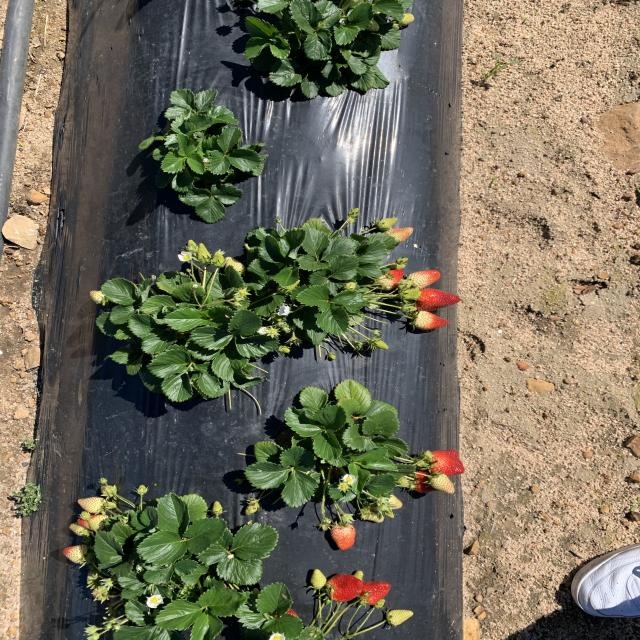unripe: (425, 446, 470, 475), (412, 287, 464, 311), (323, 574, 366, 601), (355, 581, 392, 606), (409, 473, 449, 495), (272, 605, 305, 627)
